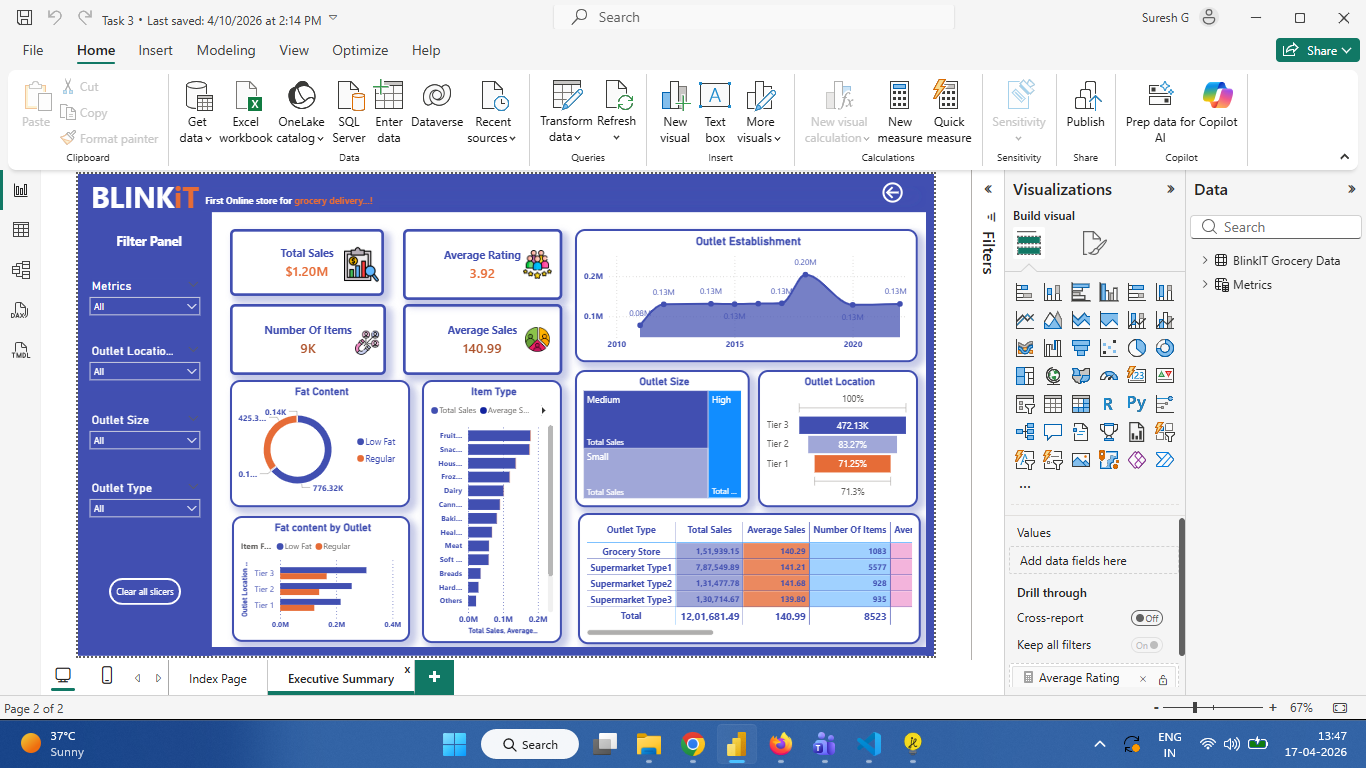

The dashboard page shown, as its layout file describes it:
{"tool":"powerbi","page":{"name":"Executive Summary","canvas":[1280,720],"ordinal":1},"visuals":[{"type":"shape","box":[0,0,1280.2,56.8],"z":0},{"type":"shape","box":[0,71.7,200.2,648.3],"z":1000},{"type":"shape","box":[164.3,706.6,1115.9,13.4],"z":2000},{"type":"shape","box":[1266.7,28.4,13.4,691.6],"z":3000},{"type":"textbox","box":[0,0,200.2,71.7],"z":4000},{"type":"cardVisual","fields":{"Data":["BlinkIT Grocery Data.Total Sales"]},"box":[227.1,82.2,230,100.1],"z":6000},{"type":"cardVisual","fields":{"Data":["BlinkIT Grocery Data.Average Sales"]},"box":[485.5,194.2,237.5,106.1],"z":7000},{"type":"cardVisual","fields":{"Data":["BlinkIT Grocery Data.Number Of Items"]},"box":[227.1,194.2,233,106.1],"z":8000},{"type":"cardVisual","fields":{"Data":["BlinkIT Grocery Data.Average Rating"]},"box":[485.5,82.2,237.5,106.1],"z":9000},{"type":"slicer","fields":{"Values":["Metrics.Metrics"]},"box":[7.5,150.9,185.2,73.2],"z":10000},{"type":"donutChart","title":"Fat Content","fields":{"Y":["BlinkIT Grocery Data.Total Sales","BlinkIT Grocery Data.Average Sales","BlinkIT Grocery Data.Number Of Items","BlinkIT Grocery Data.Average Rating"],"Category":["BlinkIT Grocery Data.Item Fat Content"]},"box":[227.1,307.7,268.9,189.7],"z":11000},{"type":"clusteredBarChart","title":"Fat content by Outlet","fields":{"Y":["BlinkIT Grocery Data.Total Sales"],"Category":["BlinkIT Grocery Data.Outlet Location Type"],"Series":["BlinkIT Grocery Data.Item Fat Content"]},"box":[230,510.9,265.9,188.2],"z":12000},{"type":"barChart","title":"Item Type","fields":{"Y":["BlinkIT Grocery Data.Total Sales","BlinkIT Grocery Data.Average Sales","BlinkIT Grocery Data.Number Of Items","BlinkIT Grocery Data.Average Rating"],"Category":["BlinkIT Grocery Data.Item Type"]},"box":[513.9,307.7,209.1,392.9],"z":13000},{"type":"lineChart","title":" Outlet Establishment ","fields":{"Category":["BlinkIT Grocery Data.Outlet Establishment Year"],"Y":["BlinkIT Grocery Data.Total Sales"]},"box":[742.4,82.2,512.4,198.7],"z":15000},{"type":"treemap","title":"Outlet Size","fields":{"Group":["BlinkIT Grocery Data.Outlet Size"],"Values":["BlinkIT Grocery Data.Total Sales","BlinkIT Grocery Data.Average Sales","BlinkIT Grocery Data.Number Of Items","BlinkIT Grocery Data.Average Rating"]},"box":[742.4,292.8,261.4,204.6],"z":16000},{"type":"funnel","title":"Outlet Location ","fields":{"Y":["BlinkIT Grocery Data.Total Sales"],"Category":["BlinkIT Grocery Data.Outlet Location Type"]},"box":[1015.8,292.8,239,204.6],"z":17000},{"type":"pivotTable","fields":{"Values":["BlinkIT Grocery Data.Total Sales","BlinkIT Grocery Data.Average Sales","BlinkIT Grocery Data.Number Of Items","BlinkIT Grocery Data.Average Rating","BlinkIT Grocery Data.Average Sales","BlinkIT Grocery Data.Number Of Items","BlinkIT Grocery Data.Average Rating","Sum(BlinkIT Grocery Data.Item Visibility)"],"Rows":["BlinkIT Grocery Data.Outlet Type"]},"box":[746.9,506.4,512.4,195.7],"z":18000},{"type":"slicer","fields":{"Values":["BlinkIT Grocery Data.Outlet Location Type"]},"box":[7.5,248,185.2,76.2],"z":19001},{"type":"slicer","fields":{"Values":["BlinkIT Grocery Data.Outlet Size"]},"box":[7.5,351,185.2,88.1],"z":19002},{"type":"actionButton","box":[46.3,603.5,107.6,40.3],"z":19003},{"type":"textbox","box":[26.9,82.2,158.3,49.3],"z":19004},{"type":"textbox","box":[185.2,25.4,264.4,31.4],"z":19005},{"type":"slicer","fields":{"Values":["BlinkIT Grocery Data.Outlet Type"]},"box":[7.5,452.6,185.2,88.1],"z":19006},{"type":"image","box":[397.3,104.6,52.3,61.2],"z":19007},{"type":"image","box":[664.7,104.6,43.3,61.2],"z":19008},{"type":"image","box":[667.7,222.6,37.3,49.3],"z":19009},{"type":"image","box":[413.8,224.1,35.9,56.8],"z":19010},{"type":"actionButton","box":[1166.6,7.5,100.1,40.3],"z":19011}]}

Visuals, with their boxes on the page's 1280x720 design canvas (x1, y1, x2, y2). These are canvas units, not pixel positions in the 1366x768 screenshot, which may show the page scaled, cropped or inside an application window:
shape: 0:0:1280:57
shape: 0:72:200:720
shape: 164:707:1280:720
shape: 1267:28:1280:720
textbox: 0:0:200:72
cardVisual - BlinkIT Grocery Data.Total Sales: 227:82:457:182
cardVisual - BlinkIT Grocery Data.Average Sales: 486:194:723:300
cardVisual - BlinkIT Grocery Data.Number Of Items: 227:194:460:300
cardVisual - BlinkIT Grocery Data.Average Rating: 486:82:723:188
slicer - Metrics.Metrics: 8:151:193:224
"Fat Content" donutChart: 227:308:496:497
"Fat content by Outlet" clusteredBarChart: 230:511:496:699
"Item Type" barChart: 514:308:723:701
" Outlet Establishment " lineChart: 742:82:1255:281
"Outlet Size" treemap: 742:293:1004:497
"Outlet Location " funnel: 1016:293:1255:497
pivotTable - BlinkIT Grocery Data.Total Sales x BlinkIT Grocery Data.Average Sales: 747:506:1259:702
slicer - BlinkIT Grocery Data.Outlet Location Type: 8:248:193:324
slicer - BlinkIT Grocery Data.Outlet Size: 8:351:193:439
actionButton: 46:604:154:644
textbox: 27:82:185:132
textbox: 185:25:450:57
slicer - BlinkIT Grocery Data.Outlet Type: 8:453:193:541
image: 397:105:450:166
image: 665:105:708:166
image: 668:223:705:272
image: 414:224:450:281
actionButton: 1167:8:1267:48
